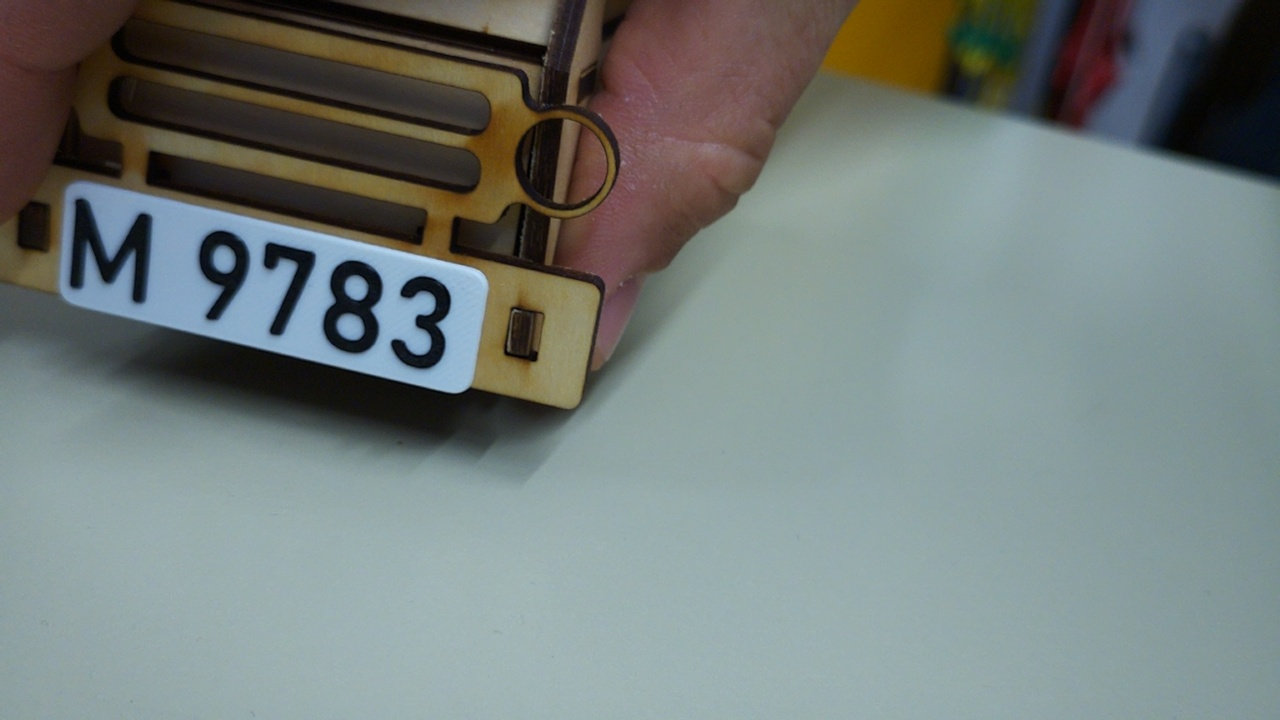license_plate: (57, 178, 492, 396)
